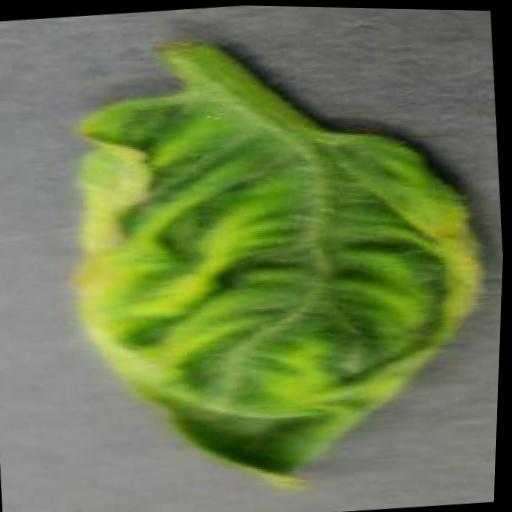Yellow Leaf Curl Virus: (56, 63, 507, 512)
